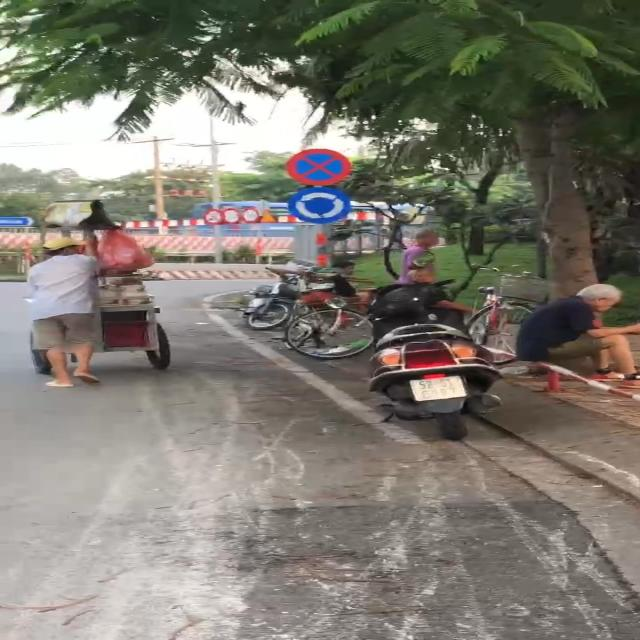Bien bao cam dung xe va do xe: (282, 145, 360, 187)
Bien bao noi giao nhau chay theo vong xuyen: (284, 186, 352, 224)
